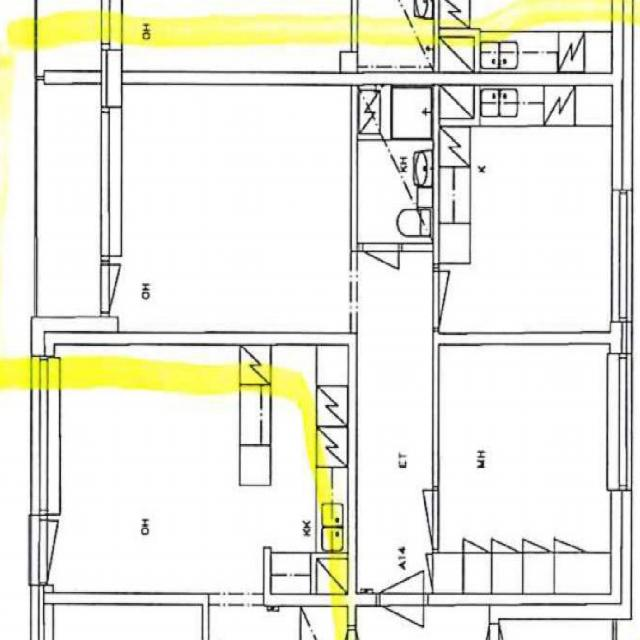door: (379, 536, 424, 606), (388, 490, 439, 548), (101, 263, 160, 313), (433, 272, 483, 328), (364, 244, 399, 298)
